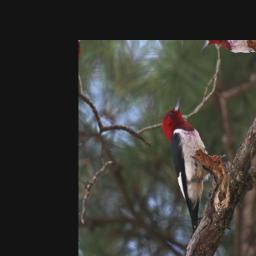Woodpecker: (127, 89, 240, 240)
